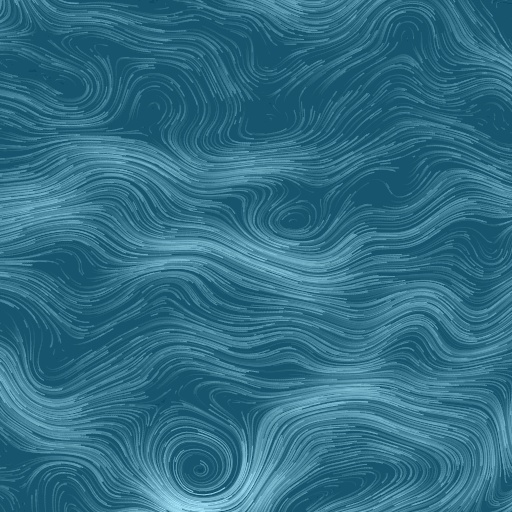eddy: (154, 426, 247, 508), (264, 198, 324, 244)
